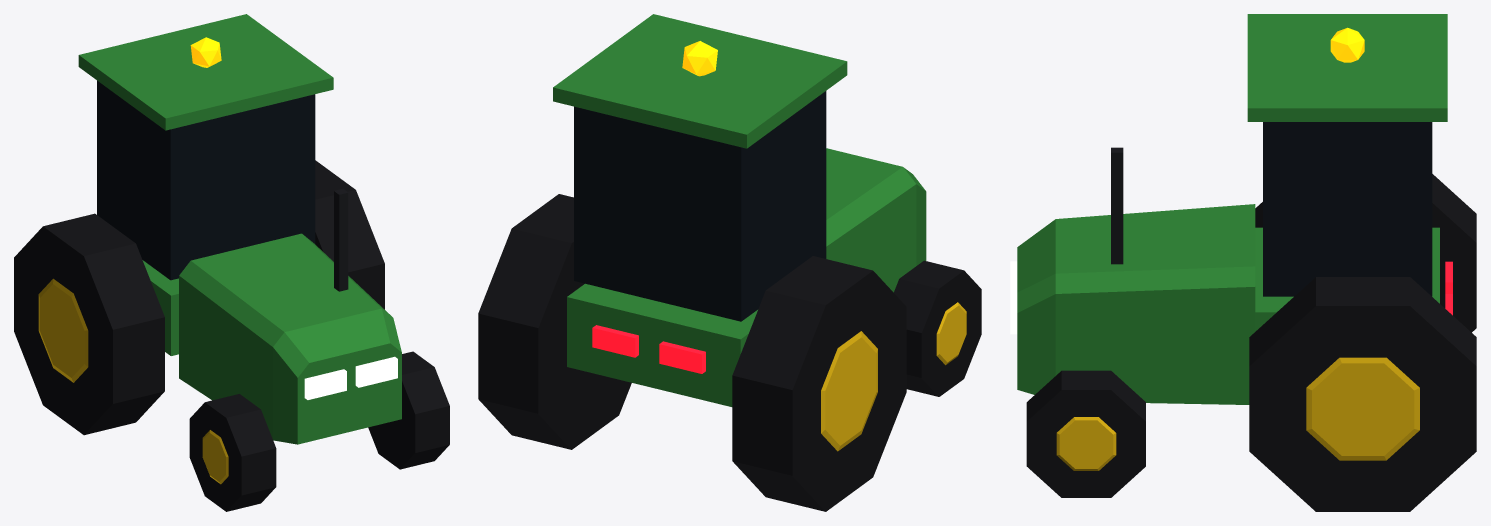
Rendered from tractor.glb.
The picture shows the model from 3 angles, left to right: view 1: azimuth 30°, elevation 25°; view 2: azimuth 150°, elevation 25°; view 3: azimuth 270°, elevation 25°; orthographic projection. The views are drawn at different scales.
Parts seen in each view (by area): view 1: Hood, CabGlass, Wheel0, Roof, Wheel0.001, Wheel1.001, Wheel1, Hub0, CabFloor, Exhaust, Hub0.001, Head1 (+2 smaller); view 2: CabGlass, Wheel0, Roof, Wheel1, CabFloor, Hood, Wheel0.001, Hub0, Hub0.001, Tail1, Tail-1, Beacon; view 3: Hood, Wheel1, CabGlass, Roof, Wheel1.001, Hub1, Wheel0, Hub1.001, CabFloor, Exhaust, Beacon.
Part boxes in pixels (x1,y1,x2,y2): Hood: [179, 233, 401, 444]; CabGlass: [97, 80, 315, 280]; Wheel0: [14, 213, 164, 435]; Roof: [78, 14, 333, 130]; Wheel0.001: [189, 394, 276, 511]; Wheel1.001: [368, 351, 449, 469]; Wheel1: [315, 160, 384, 309]; Hub0: [38, 278, 88, 382]; CabFloor: [142, 260, 178, 355]; Exhaust: [334, 188, 348, 291]; Hub0.001: [202, 430, 228, 484]; Head1: [355, 356, 397, 387]; CabGlass: [574, 91, 826, 321]; Wheel0: [732, 256, 906, 511]; Roof: [553, 14, 847, 148]; Wheel1: [478, 194, 631, 449]; CabFloor: [567, 283, 757, 406]; Hood: [826, 148, 926, 292]; Wheel0.001: [894, 260, 981, 396]; Hub0: [821, 331, 877, 451]; Hub0.001: [936, 302, 966, 365]; Tail1: [592, 325, 638, 357]; Tail-1: [659, 341, 705, 373]; Beacon: [682, 41, 717, 76]; Hood: [1017, 204, 1255, 404]; Wheel1: [1249, 277, 1476, 511]; CabGlass: [1263, 122, 1432, 296]; Roof: [1247, 14, 1447, 121]; Wheel1.001: [1026, 370, 1145, 497]; Hub1: [1306, 357, 1419, 460]; Wheel0: [1255, 174, 1476, 332]; Hub1.001: [1056, 417, 1116, 470]; CabFloor: [1255, 227, 1439, 331]; Exhaust: [1111, 147, 1123, 264]; Beacon: [1330, 27, 1364, 62].
Bounding box in the file's own units: 2.37 × 2.96 × 3.03.
